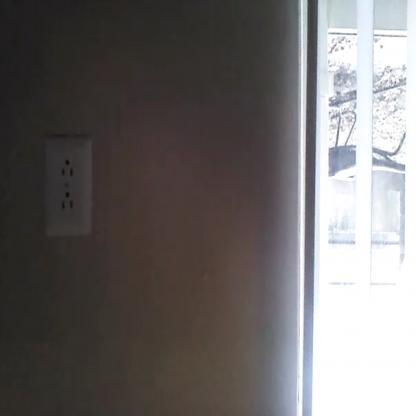OUTLET: (45, 136, 93, 236)
